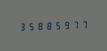eight: (35, 20, 43, 31), (44, 20, 52, 31)
five: (26, 20, 34, 31), (53, 20, 61, 30)
nine: (62, 19, 70, 30)
seven: (71, 19, 79, 30), (80, 19, 88, 29)
three: (17, 21, 25, 31)
